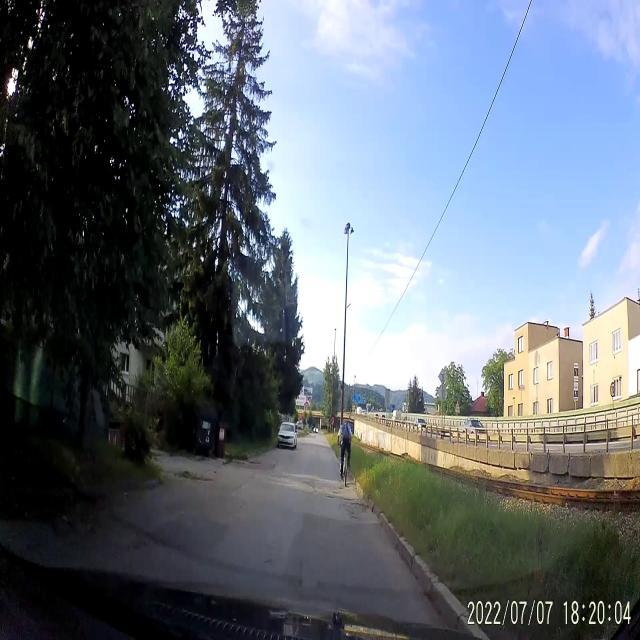Pothole: (334, 492, 368, 522)
